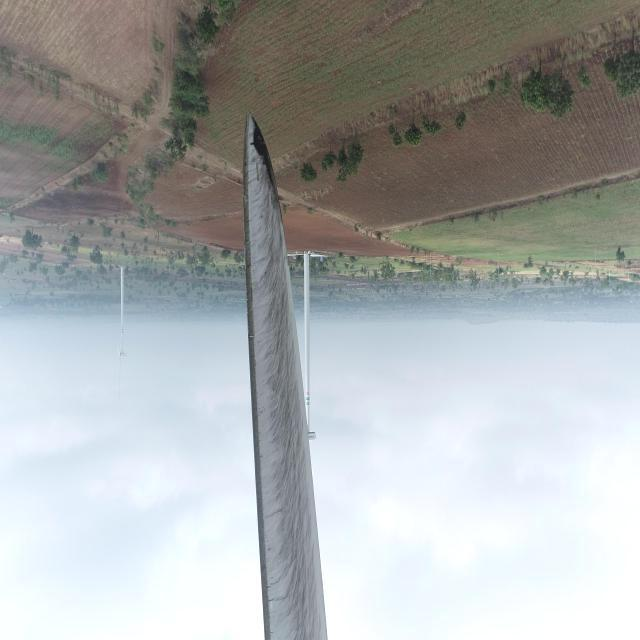Dirt: (242, 114, 328, 640)
Oil LEAKAGE: (250, 116, 280, 190)
Pin Hole: (248, 139, 258, 152)
